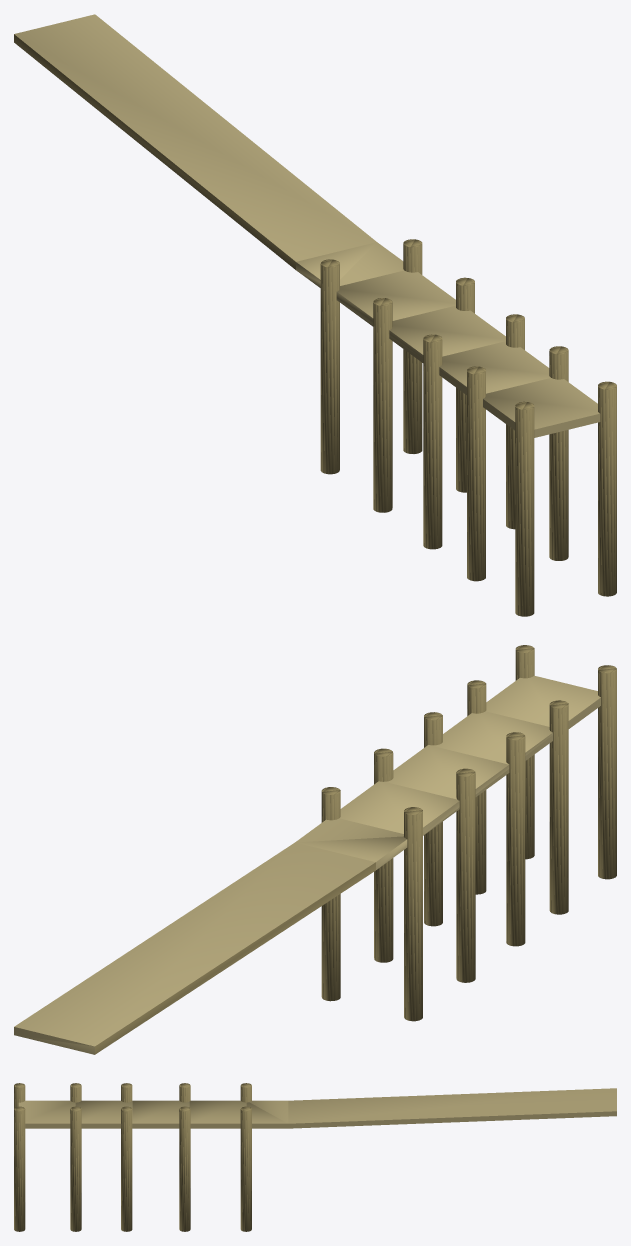
The model's file is city_pier.glb.
The picture shows the model from 3 angles, top to bottom: view 1: azimuth 30°, elevation 25°; view 2: azimuth 150°, elevation 25°; view 3: azimuth 270°, elevation 25°; orthographic projection. The views are drawn at different scales.
Parts seen in each view (by area): view 1: pier-col; view 2: pier-col; view 3: pier-col.
Part boxes in pixels (box(x1,y1,x2,y2)): pier-col: box(14, 14, 616, 616); pier-col: box(14, 645, 616, 1054); pier-col: box(14, 1083, 616, 1231).
Size of the model in its own units: 3.14 by 6.24 by 28.3.
